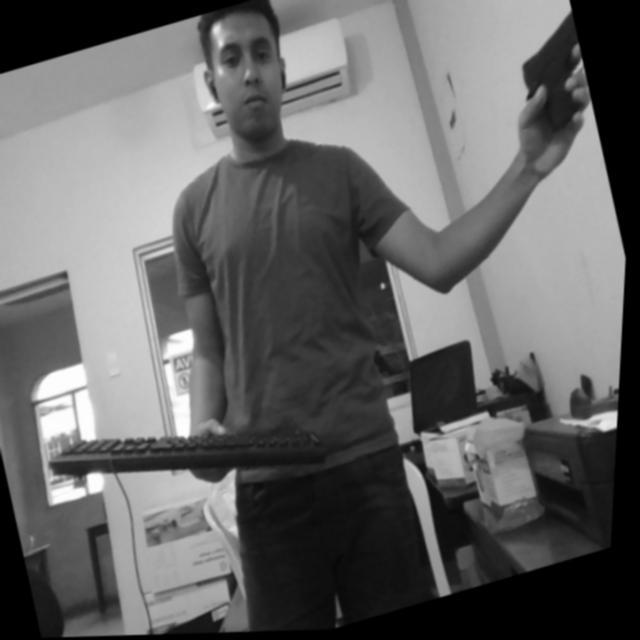weapon: (498, 6, 604, 149)
